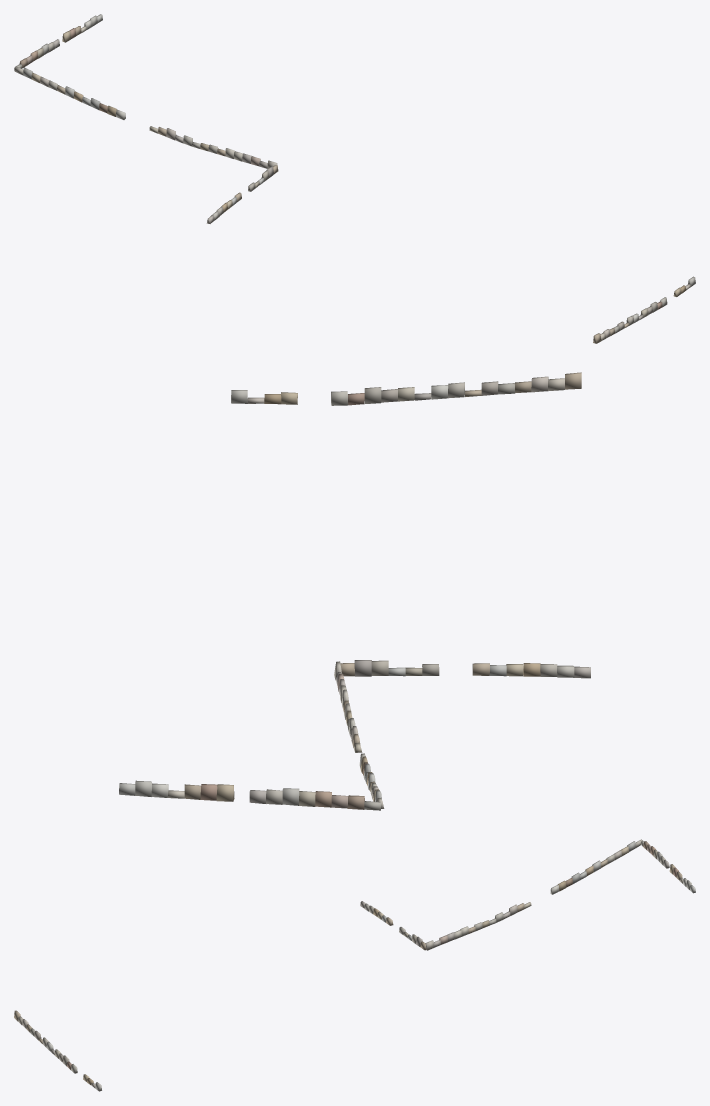
File: farm_-1_21_far.glb
The picture shows the model from 3 angles, top to bottom: view 1: azimuth 30°, elevation 25°; view 2: azimuth 150°, elevation 25°; view 3: azimuth 270°, elevation 25°; orthographic projection. The views are drawn at different scales.
Visible parts, largest first — view 1: geometry_0; view 2: geometry_0; view 3: geometry_0.
Boxes of the visible parts, x1,y1,x2,y2 form: geometry_0: (14,14,695,343); geometry_0: (119,372,590,810); geometry_0: (14,839,695,1091).
Bounding box in the file's own units: 75.8 × 18.33 × 129.
